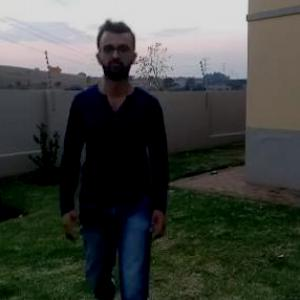follow: (59, 13, 171, 299)
